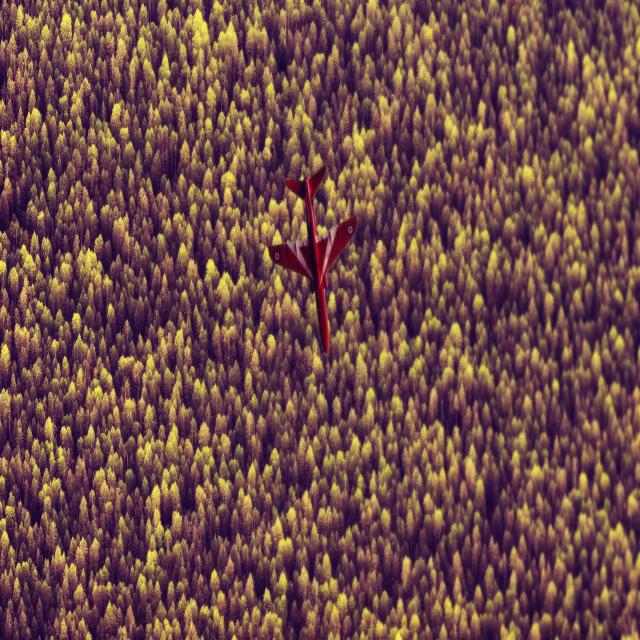airplane: (266, 163, 358, 354)
